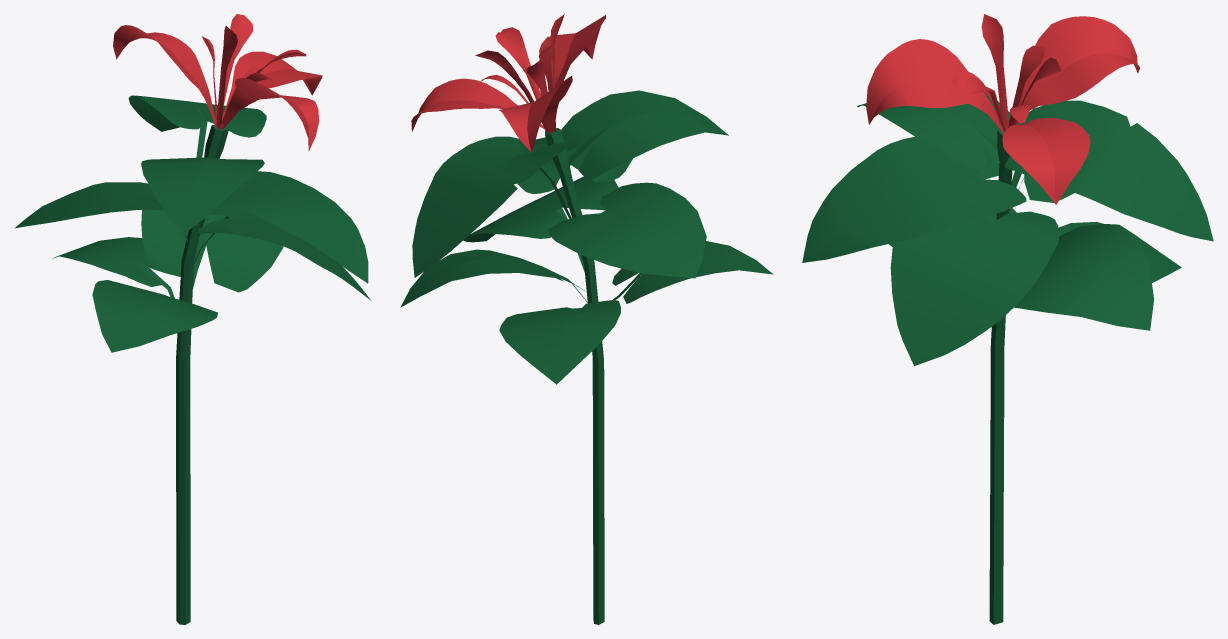
Rendered from plant_flower_D.fbx.
The picture shows the model from 3 angles, left to right: view 1: azimuth 30°, elevation 25°; view 2: azimuth 150°, elevation 25°; view 3: azimuth 270°, elevation 25°; orthographic projection. The views are drawn at different scales.
Parts seen in each view (by area): view 1: plant_flower_D_leaf_C, plant_flower_D_twig, plant_flower_D_leaf_I, plant_flower_D_leaf_B, plant_flower_D_leaf_K, plant_flower_D_leaf_D, plant_flower_D_leaf_A, plant_flower_D_leaf_H, plant_flower_D_leaf_J, plant_flower_D_flower_B, plant_flower_D_flower_A, plant_flower_D_flower_C (+2 smaller); view 2: plant_flower_D_leaf_D, plant_flower_D_leaf_A, plant_flower_D_leaf_B, plant_flower_D_leaf_J, plant_flower_D_twig, plant_flower_D_leaf_H, plant_flower_D_leaf_I, plant_flower_D_leaf_K, plant_flower_D_flower_C, plant_flower_D_flower_B, plant_flower_D_flower_A, plant_flower_D_leaf_C (+2 smaller); view 3: plant_flower_D_leaf_H, plant_flower_D_leaf_C, plant_flower_D_leaf_A, plant_flower_D_leaf_I, plant_flower_D_flower_B, plant_flower_D_flower_A, plant_flower_D_twig, plant_flower_D_flower_C, plant_flower_D_leaf_B, plant_flower_D_flower_E, plant_flower_D_leaf_D, plant_flower_D_leaf_J (+1 smaller).
Boxes of the visible parts, x1,y1,x2,y2 form: plant_flower_D_leaf_C: (200,171,368,283); plant_flower_D_twig: (176,125,228,624); plant_flower_D_leaf_I: (141,197,283,292); plant_flower_D_leaf_B: (141,157,264,234); plant_flower_D_leaf_K: (92,280,217,352); plant_flower_D_leaf_D: (14,182,187,242); plant_flower_D_leaf_A: (128,95,266,237); plant_flower_D_leaf_H: (193,202,371,300); plant_flower_D_leaf_J: (52,237,181,298); plant_flower_D_flower_B: (113,25,216,127); plant_flower_D_flower_A: (218,78,319,151); plant_flower_D_flower_C: (222,51,322,119); plant_flower_D_leaf_D: (548,182,706,278); plant_flower_D_leaf_A: (412,136,573,277); plant_flower_D_leaf_B: (561,90,728,180); plant_flower_D_leaf_J: (499,300,620,384); plant_flower_D_twig: (545,128,604,624); plant_flower_D_leaf_H: (463,176,618,272); plant_flower_D_leaf_I: (400,249,587,307); plant_flower_D_leaf_K: (612,241,773,303); plant_flower_D_flower_C: (411,78,545,131); plant_flower_D_flower_B: (499,76,572,152); plant_flower_D_flower_A: (539,15,605,118); plant_flower_D_leaf_C: (517,137,632,193); plant_flower_D_leaf_H: (890,211,1059,365); plant_flower_D_leaf_C: (802,137,1026,262); plant_flower_D_leaf_A: (1005,100,1213,241); plant_flower_D_leaf_I: (1014,224,1154,330); plant_flower_D_flower_B: (1013,16,1139,124); plant_flower_D_flower_A: (866,39,1003,132); plant_flower_D_twig: (989,128,1012,624); plant_flower_D_flower_C: (1002,118,1090,204); plant_flower_D_leaf_B: (857,93,1010,169); plant_flower_D_flower_E: (981,14,1008,129); plant_flower_D_leaf_D: (973,112,1074,202); plant_flower_D_leaf_J: (1058,221,1181,282).
Bounding box in the file's own units: 40.87 × 79.48 × 47.21.
